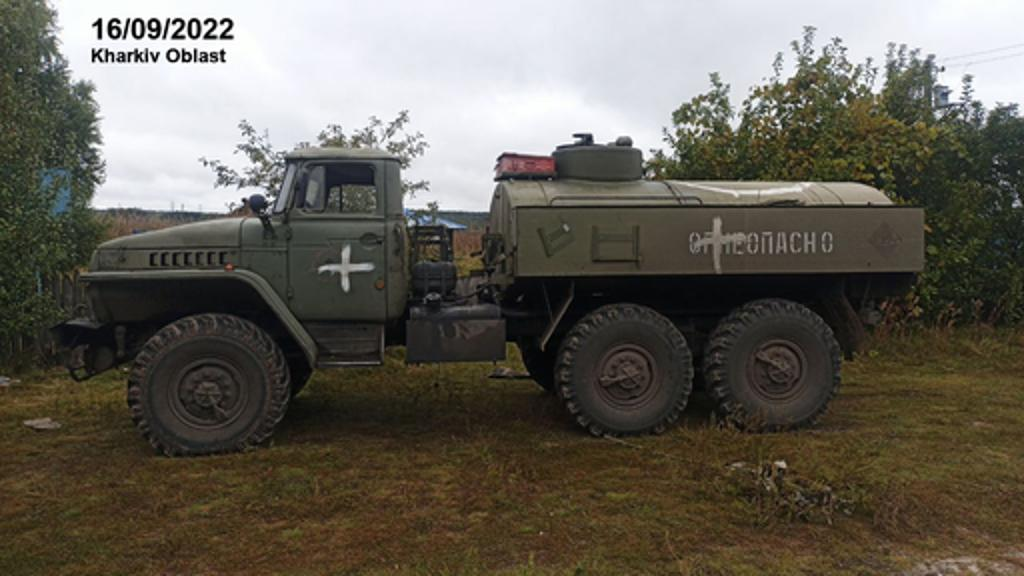TRUCK: (40, 128, 930, 462)
